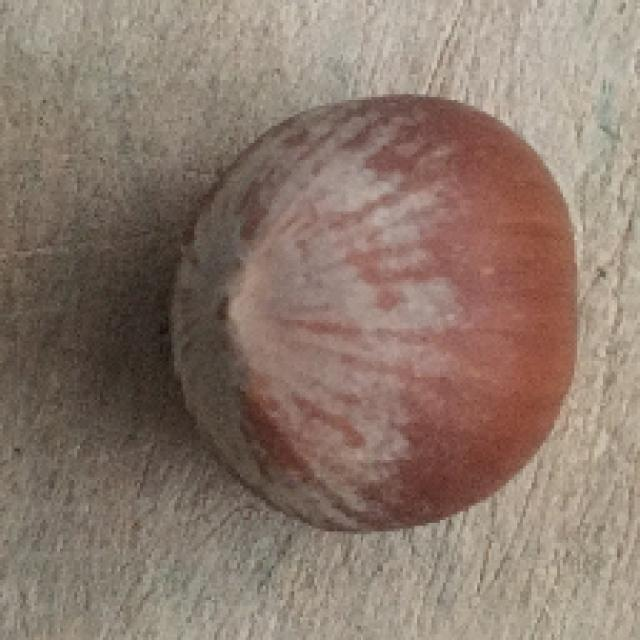qualityHazelnut: (162, 91, 578, 533)
